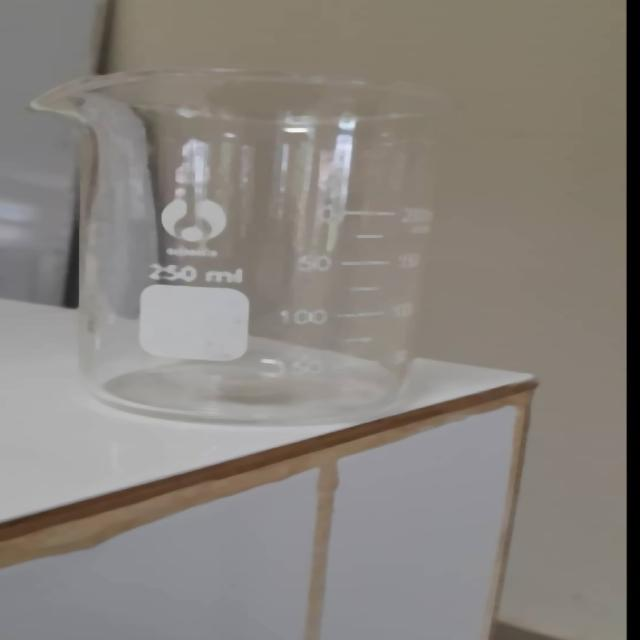Beakers: (25, 57, 486, 428)
